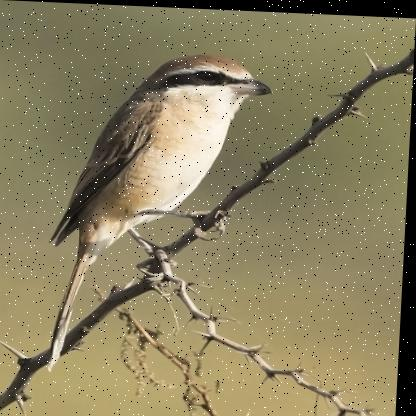Burung: (32, 45, 285, 376)
